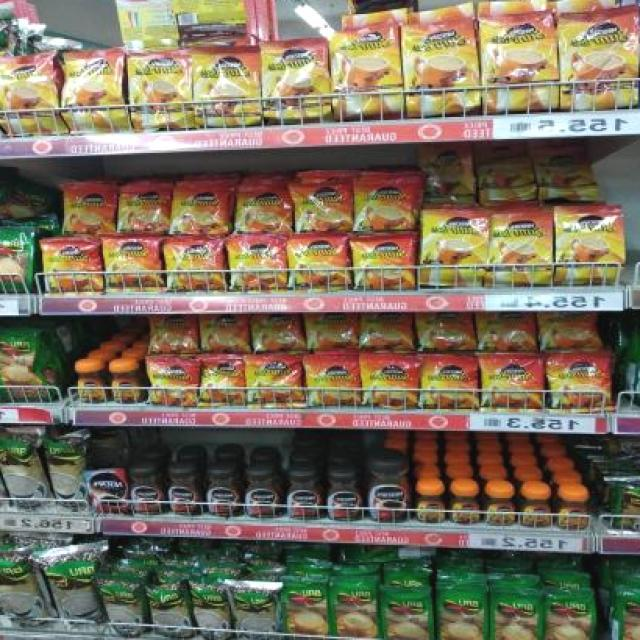Coffee: (560, 8, 640, 108), (482, 13, 556, 112), (406, 20, 476, 116), (333, 28, 401, 117), (552, 208, 622, 284), (487, 213, 553, 288), (194, 48, 259, 124), (264, 41, 326, 120), (130, 52, 192, 131), (421, 211, 486, 285), (65, 55, 124, 131), (0, 55, 56, 132), (354, 173, 417, 230), (102, 238, 162, 292), (228, 238, 286, 291), (170, 186, 233, 234), (164, 238, 222, 290), (418, 357, 476, 409), (358, 237, 413, 290), (290, 238, 346, 290), (486, 358, 544, 408), (362, 356, 417, 407), (44, 242, 100, 292), (292, 185, 350, 232), (247, 358, 301, 408), (116, 184, 171, 233), (554, 356, 606, 407), (367, 461, 410, 522), (306, 357, 360, 405), (235, 188, 291, 233), (66, 187, 116, 234), (478, 311, 534, 351), (541, 311, 599, 349), (150, 358, 197, 404), (422, 310, 474, 350), (199, 358, 244, 404), (150, 313, 198, 354), (200, 312, 250, 351), (252, 313, 302, 352), (309, 311, 358, 349), (242, 469, 280, 518), (362, 312, 412, 348), (326, 472, 362, 521), (164, 468, 202, 514), (286, 470, 322, 518), (206, 468, 240, 517), (130, 468, 162, 512), (90, 474, 128, 511), (108, 364, 142, 404), (522, 493, 557, 528), (76, 365, 105, 403), (448, 489, 479, 524), (558, 494, 588, 530), (484, 490, 514, 523), (416, 490, 446, 522)
